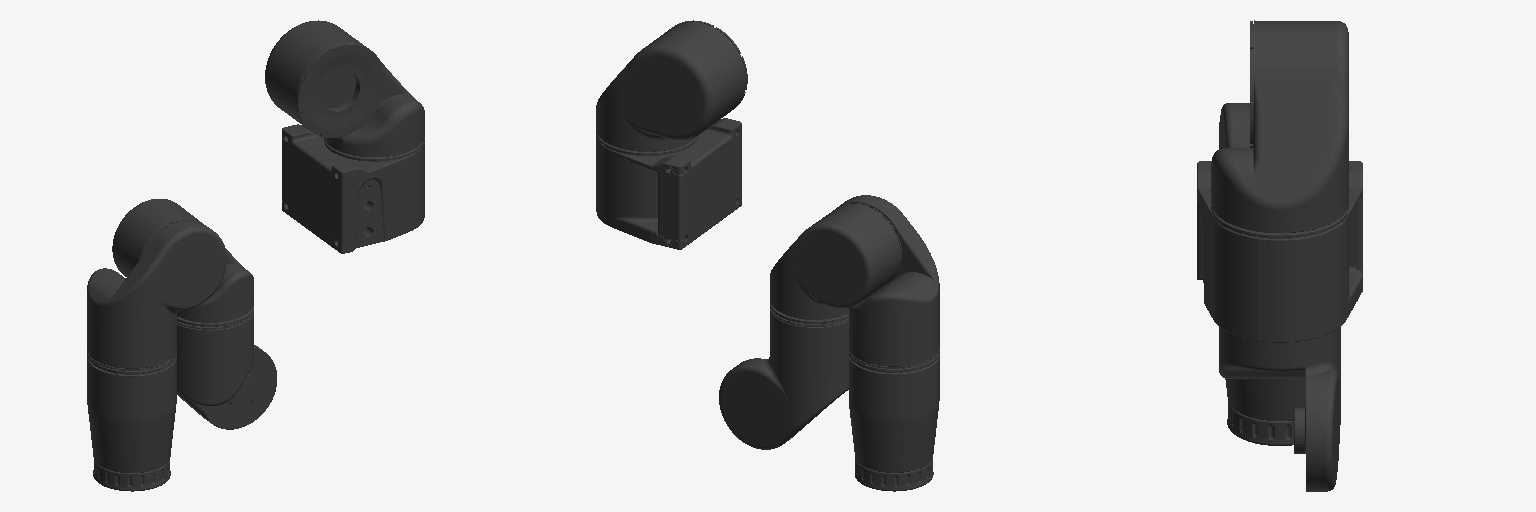
The robot description file, URDF, robot "bravo7":
<robot name="bravo7">
    <link name="base_link"/>
    <material name="bravo_black">
    <color rgba="0.3 0.3 0.3 1"/>
    </material>
    <joint name="bravo_joint" type="fixed">
        <origin rpy="0 0 0" xyz="0 0 0"/>
        <parent link="base_link"/>
        <child link="bravo_base_link"/>
    </joint>
    <link name="bravo_base_link"/>


    <link name="bravo_rs2_266_link">
        <visual>
            <geometry>
                <mesh filename="package://bravo_description/meshes/RS2-266.stl"/>
            </geometry>
            <material name="bravo_black"/>
        </visual>
    </link>

    <joint name="bravo_rs2_266_joint" type="fixed">
        <parent link="bravo_base_link"/>
        <child link="bravo_rs2_266_link"/>
        <origin rpy="0 0 0"/>
    </joint>

    <link name="bravo_rs2_217_link">
        <visual>
            <geometry>
                <mesh filename="package://bravo_description/meshes/RS2-217.stl"/>
            </geometry>
            <material name="bravo_black"/>
        </visual>
    </link>

    <joint name="bravo_axis_g" type="revolute">
        <parent link="bravo_rs2_266_link"/>
        <child link="bravo_rs2_217_link"/>
        <origin rpy="0 0 0" xyz="0.0665 0 0.078"/>
        <axis xyz="0 0 -1"/>
        <limit effort="9.0" lower="0.0" upper="6.3" velocity="0.5"/>
    </joint>

    <link name="bravo_RS2-1013_base_link">
        <visual>
            <geometry>
                <mesh filename="package://bravo_description/meshes/RS2-1013_base.stl"/>
            </geometry>
            <origin rpy="0 0 0" xyz = "-0.046 0 -0.065"/>
            <material name="bravo_black"/>
        </visual>
    </link>

    <joint name="bravo_axis_f" type="revolute">
        <parent link="bravo_rs2_217_link"/>
        <child link="bravo_RS2-1013_base_link"/>
        <origin rpy="0 0 0" xyz="-0.046 0 0.0674"/>
        <axis xyz="0 1 0"/>
        <limit effort="9.0" lower="0.0" upper="3.5" velocity="0.5"/>
    </joint>


    <link name="bravo_RS2-1030_base_link">
        <visual>
            <geometry>
                <mesh filename="package://bravo_description/meshes/RS2-1030.stl"/>
            </geometry>
            <origin rpy="0 3.1415 0" xyz = "-0.046 0 -0.05"/>
            <material name="bravo_black"/>
        </visual>
    </link>

    <link name="bravo_RS2-1026_base_link">
        <visual>
            <geometry>
                <mesh filename="package://bravo_description/meshes/RS2-1026_0_base.stl"/>
            </geometry>
            <origin rpy="0 3.1415 0" xyz = "-0.046 0 -0.2350"/>
            <material name="bravo_black"/>
        </visual>
    </link>

    <joint name="bravo_rs2_313_joint" type="fixed">
        <parent link="bravo_RS2-1013_base_link"/>
        <child link="bravo_RS2-1030_base_link"/>
        <origin rpy="0 0 0"/>
    </joint>

    <joint name="bravo_rs2_326_joint" type="fixed">
        <parent link="bravo_RS2-1030_base_link"/>
        <child link="bravo_RS2-1026_base_link"/>
        <origin rpy="0 0 0" xyz ="0 0 0"/>
    </joint>

    <link name="bravo_rs2_268_link">
        <visual>
            <geometry>
                <mesh filename="package://bravo_description/meshes/RS2-268.stl"/>
            </geometry>
            <material name="bravo_black"/>
        </visual>
    </link>

    <joint name="bravo_axis_e" type="revolute">
        <parent link="bravo_RS2-1030_base_link"/>
        <child link="bravo_rs2_268_link"/>
        <origin rpy="0 0 3.1415" xyz="-0.0868 0 -0.29355"/>
        <axis xyz="0 1 0"/>
        <limit effort="9.0" lower="0.0" upper="3.5" velocity="0.5"/>
    </joint>


    <link name="bravo_rs2_214_link">
        <visual>
            <geometry>
                <mesh filename="package://bravo_description/meshes/RS2-214.stl"/>
            </geometry>
            <material name="bravo_black"/>
        </visual>
    </link>

    <joint name="bravo_axis_d" type="revolute">
        <parent link="bravo_rs2_268_link"/>
        <child link="bravo_rs2_214_link"/>
        <origin rpy="0 0 3.14159" xyz="0.0408 0 0.09695"/>
        <axis xyz="0 0 -1"/>
        <limit effort="9.0" lower="0.0" upper="6.3" velocity="0.5"/>
    </joint>

    <link name="bravo_rs2_161_link">
        <visual>
            <geometry>
                <mesh filename="package://bravo_description/meshes/RS2-161.stl"/>
            </geometry>
            <material name="bravo_black"/>
        </visual>
    </link>

    <joint name="bravo_axis_c" type="revolute">
        <parent link="bravo_rs2_214_link"/>
        <child link="bravo_rs2_161_link"/>
        <origin rpy="0 0 0" xyz="-0.0408 0 0.063"/>
        <axis xyz="0 1 0"/>
        <limit effort="9.0" lower="0.0" upper="3.5" velocity="0.5"/>
    </joint>



    <link name="bravo_rs2_180_link">
        <visual>
            <geometry>
                <mesh filename="package://bravo_description/meshes/RS2-180.stl"/>
            </geometry>
            <material name="bravo_black"/>
        </visual>
    </link>


    <joint name="bravo_axis_b" type="revolute">
        <parent link="bravo_rs2_161_link"/>
        <child link="bravo_rs2_180_link"/>
        <origin rpy="0 3.14159 0" xyz="-0.0408 0 -0.08863"/>
        <axis xyz="0 0 -1"/>
        <limit effort="9.0" lower="0.0" upper="6.3" velocity="0.5"/>
    </joint>

    <joint name="bravo_jaws_joint" type="fixed">
    <origin rpy="0 0 0" xyz=" 0 0 0.124"/>
    <parent link="bravo_rs2_180_link"/>
    <child link="bravo_jaws_base_link"/>
  </joint>

    <material name="bravo_jaws_black">
    <color rgba="0.3 0.3 0.3 1"/>
  </material>
    <link name="bravo_jaws_base_link">
        <visual>
            <geometry>
                <mesh filename="package://bravo_description/meshes/end_effectors/RS2-257.stl"/>
            </geometry>
            <material name="bravo_jaws_black"/>
            </visual>
    </link>
    <link name="bravo_push_rod"/>
    <joint name="bravo_axis_a" type="prismatic">
        <origin rpy="0 0 0" xyz="0 0 0.009"/>
        <parent link="bravo_jaws_base_link"/>
        <child link="bravo_push_rod"/>
        <axis xyz="0 0 1"/>
        <limit effort="10" lower="0" upper="0.035" velocity="10"/>
    </joint>
    <link name="bravo_rs2_255_link">
        <visual>
            <geometry>
                <mesh filename="package://bravo_description/meshes/end_effectors/RS2-255.stl"/>
            </geometry>
        <material name="bravo_jaws_black"/>
        <origin rpy="0 0 0" xyz="0 0 0"/>
        </visual>
    </link>
    <joint name="bravo_rs2_255_joint" type="revolute">
        <origin rpy="0 0 0" xyz="0 0.033 0.0097"/>
        <parent link="bravo_jaws_base_link"/>
        <child link="bravo_rs2_255_link"/>
        <axis xyz="-1 0 0"/>
        <limit effort="10" lower="0" upper="0.5" velocity="10"/>
        <mimic joint="bravo_axis_a" multiplier="15" offset="0"/>
    </joint>
    <link name="bravo_rs2_255_jaw_inside_link">
        <visual>
            <geometry>
                <mesh filename="package://bravo_description/meshes/end_effectors/RS2-255-Jaw-Inside.stl"/>
            </geometry>
            <material name="bravo_jaws_black"/>
            <origin rpy="0 0 0" xyz="0 0 0"/>
        </visual>
    </link>
    <joint name="bravo_rs2_255_jaw_inside_joint" type="revolute">
        <origin rpy="0 0 0" xyz="0 -0.033 0.0097"/>
        <parent link="bravo_jaws_base_link"/>
        <child link="bravo_rs2_255_jaw_inside_link"/>
        <axis xyz="1 0 0"/>
        <limit effort="10" lower="0" upper="0.5" velocity="10"/>
        <mimic joint="bravo_axis_a" multiplier="15" offset="0"/>
    </joint>
</robot>

--- Facts derived from the render (not from the file) ---
Views: 3 orthographic renders of the robot side by side, from view 1: azimuth 30°, elevation 25°; view 2: azimuth 150°, elevation 25°; view 3: azimuth 270°, elevation 25°.
Model bravo7 with 15 links and 14 joints (8 revolute, 1 prismatic, 5 fixed), rooted at base_link, posed every joint at zero.
Links seen in each view (by area): view 1: bravo_rs2_217_link, bravo_rs2_161_link, bravo_rs2_266_link, bravo_rs2_180_link, bravo_rs2_268_link, bravo_rs2_214_link; view 2: bravo_rs2_217_link, bravo_rs2_266_link, bravo_rs2_268_link, bravo_rs2_214_link, bravo_rs2_180_link, bravo_rs2_161_link; view 3: bravo_rs2_217_link, bravo_rs2_266_link, bravo_rs2_268_link, bravo_rs2_180_link, bravo_rs2_161_link.
Boxes of the visible links, x1,y1,x2,y2 form: bravo_rs2_217_link: (265,20,424,160); bravo_rs2_161_link: (87,220,226,370); bravo_rs2_266_link: (282,124,424,253); bravo_rs2_180_link: (87,354,176,491); bravo_rs2_268_link: (177,311,276,429); bravo_rs2_214_link: (112,199,253,326); bravo_rs2_217_link: (596,20,747,154); bravo_rs2_266_link: (596,118,741,249); bravo_rs2_268_link: (719,308,848,449); bravo_rs2_214_link: (770,203,901,323); bravo_rs2_180_link: (849,350,939,491); bravo_rs2_161_link: (837,195,939,368); bravo_rs2_217_link: (1211,20,1348,236); bravo_rs2_266_link: (1197,161,1362,342); bravo_rs2_268_link: (1219,327,1340,491); bravo_rs2_180_link: (1225,378,1305,445); bravo_rs2_161_link: (1219,103,1249,148).
Bounding box of the posed robot: 0.342 × 0.1112 × 0.3955 m (x, y, z).
Meshes: 12 distinct files referenced, 6 mesh visuals loaded (6 binary STL); not drawn: 6 (reference not matched to a file when rendering).
